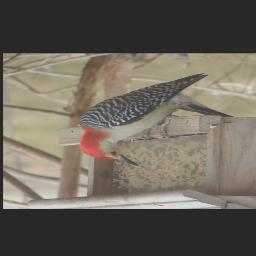Woodpecker: (71, 76, 224, 167)
